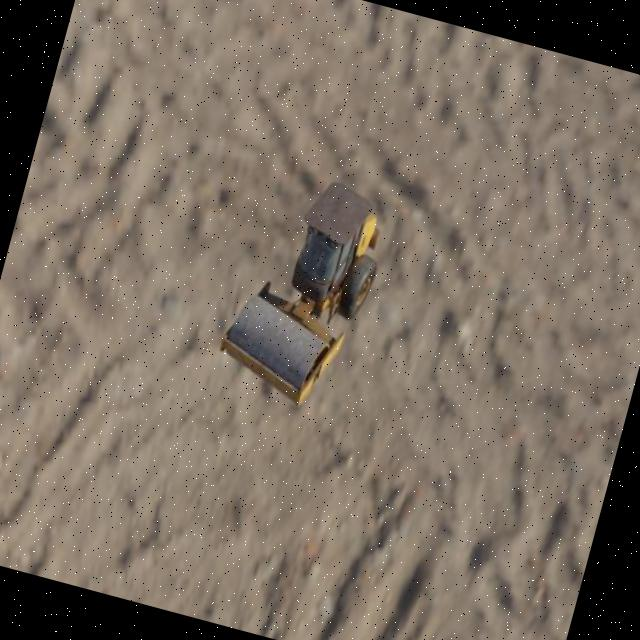Roller: (208, 162, 396, 418)
